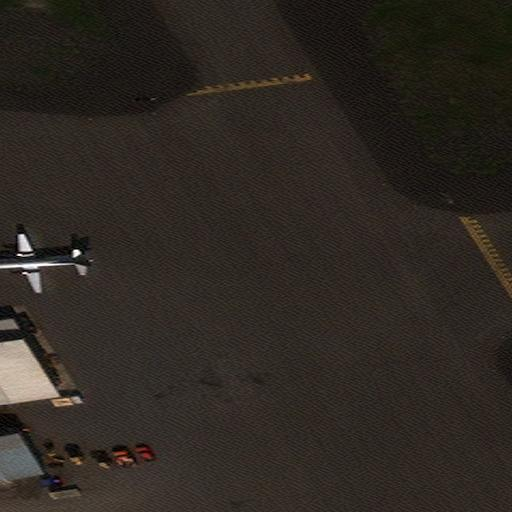Medium Civil Transport: (0, 234, 92, 293)
